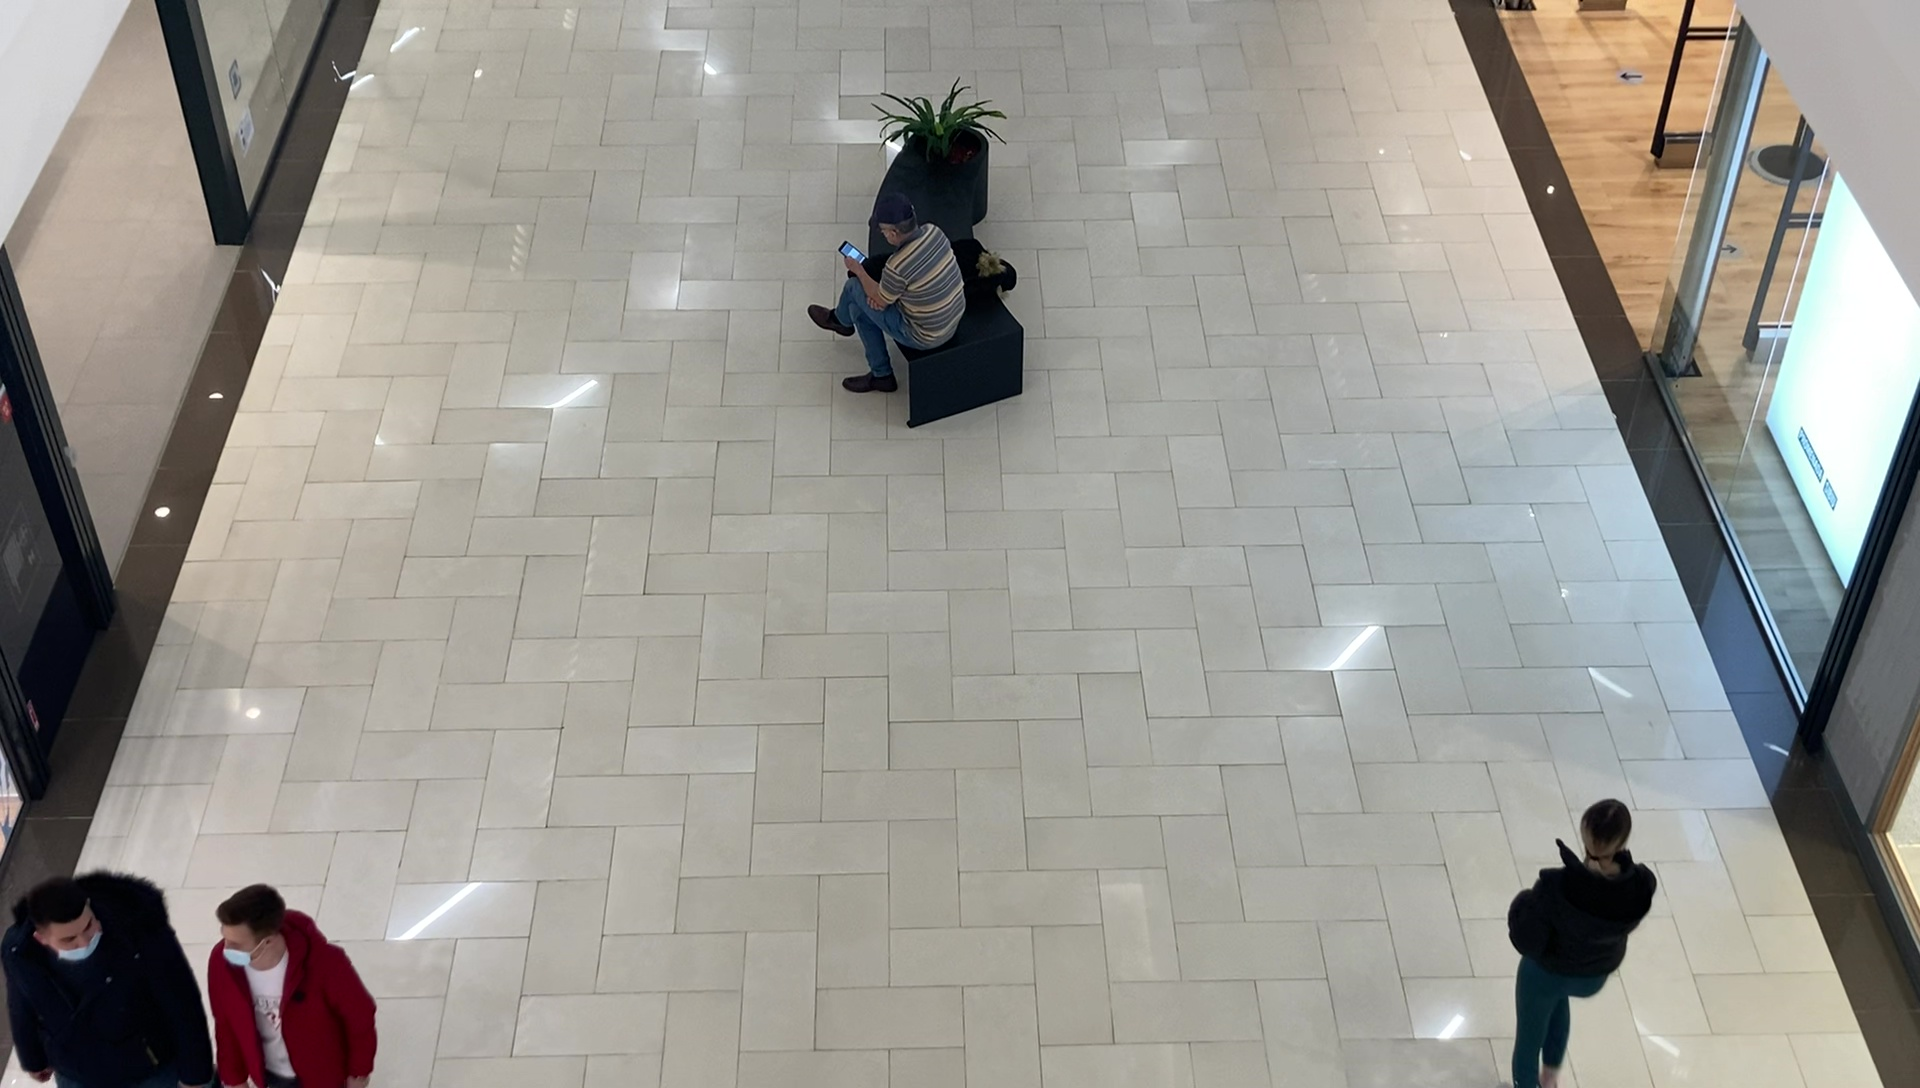person: (1510, 796, 1658, 1088), (3, 871, 198, 1088), (207, 888, 373, 1088), (832, 192, 968, 394)
